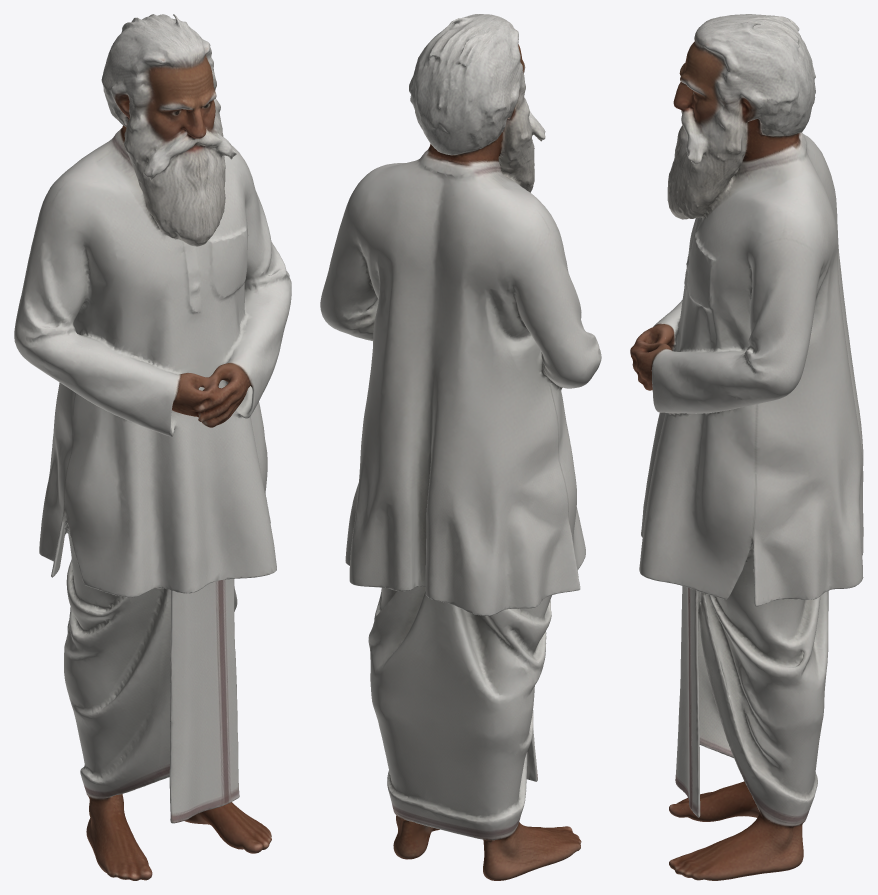
The model's file is meshy_mukhiya_87_mky.glb.
The picture shows the model from 3 angles, left to right: view 1: azimuth 30°, elevation 25°; view 2: azimuth 150°, elevation 25°; view 3: azimuth 270°, elevation 25°; orthographic projection.
Size of the model in its own units: 0.6451 by 1.9 by 0.4831.
Materials: 1 (1 with a texture image).
